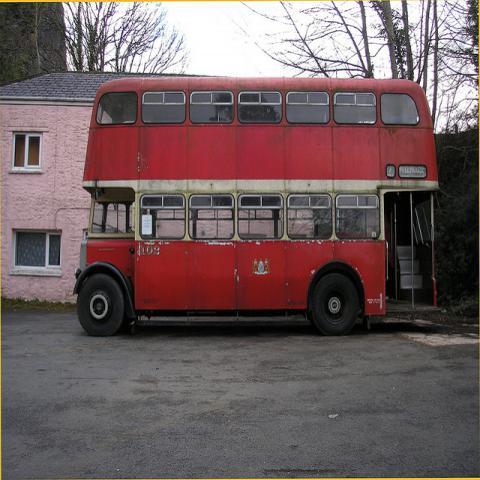bus: (73, 82, 438, 341)
